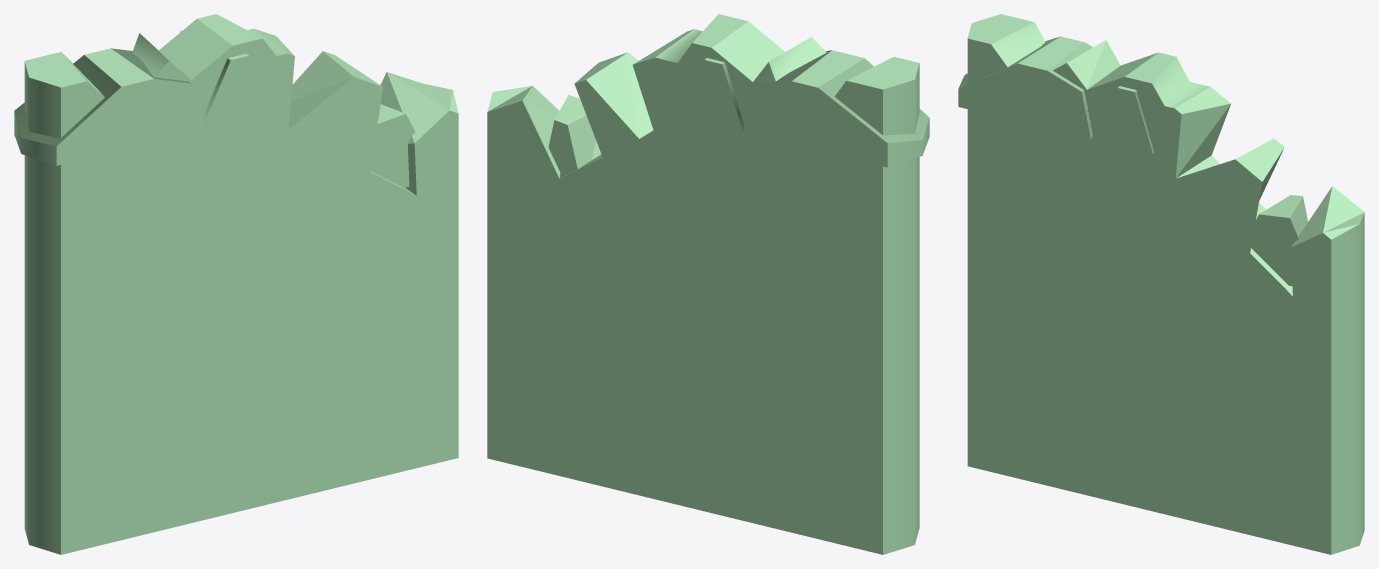
3 renders of one model, left to right at view 1: azimuth 30°, elevation 25°; view 2: azimuth 150°, elevation 25°; view 3: azimuth 330°, elevation 25°, orthographic. The views are drawn at different scales.
Parts seen in each view (by area): view 1: Object03; view 2: Object03; view 3: Object03.
Part boxes in pixels (x1=…): Object03: x1=14, y1=14, x2=458, y2=554; Object03: x1=487, y1=14, x2=929, y2=554; Object03: x1=958, y1=14, x2=1364, y2=554.
Bounding box in the file's own units: 299 × 309 × 50.42.
